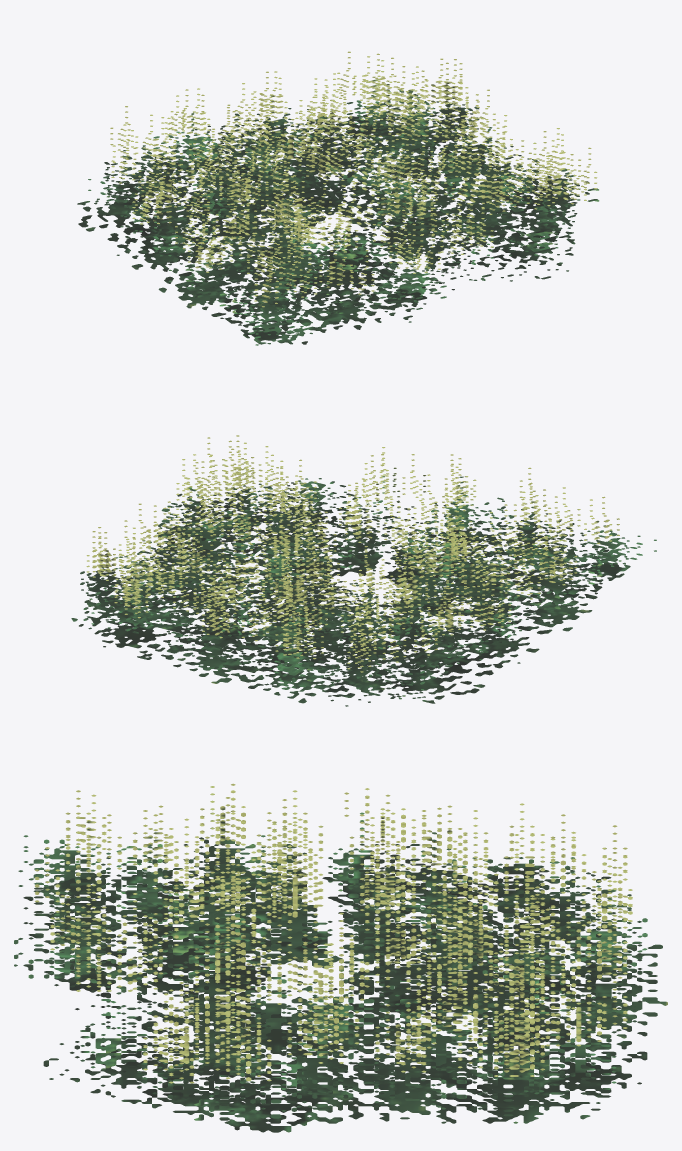
Rendered from bijvoet.fbx.
The picture shows the model from 3 angles, top to bottom: view 1: azimuth 30°, elevation 25°; view 2: azimuth 150°, elevation 25°; view 3: azimuth 270°, elevation 25°; orthographic projection. The views are drawn at different scales.
Parts seen in each view (by area): view 1: bijvoet; view 2: bijvoet; view 3: bijvoet.
Part boxes in pixels (x1=…): bijvoet: x1=77, y1=51, x2=599, y2=345; bijvoet: x1=71, y1=435, x2=656, y2=706; bijvoet: x1=14, y1=783, x2=667, y2=1132.
Bounding box in the file's own units: 900 × 146 × 900.
Materials: 1 (1 with a texture image).
